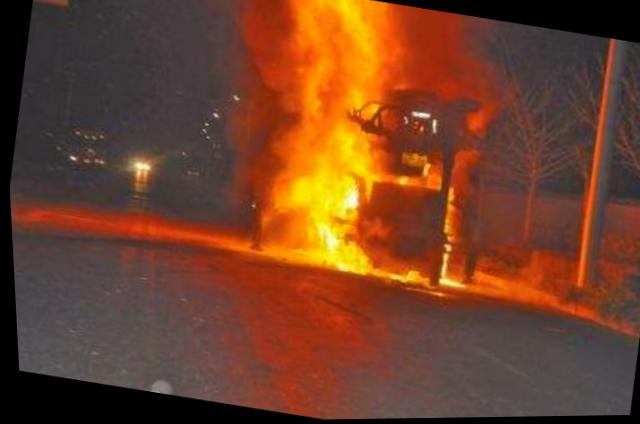fire: (222, 0, 511, 301)
